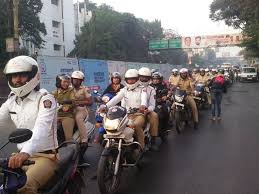helmet: (3, 54, 43, 98), (120, 68, 140, 88), (66, 66, 84, 86), (55, 70, 70, 91), (138, 62, 152, 84), (178, 66, 190, 80)
